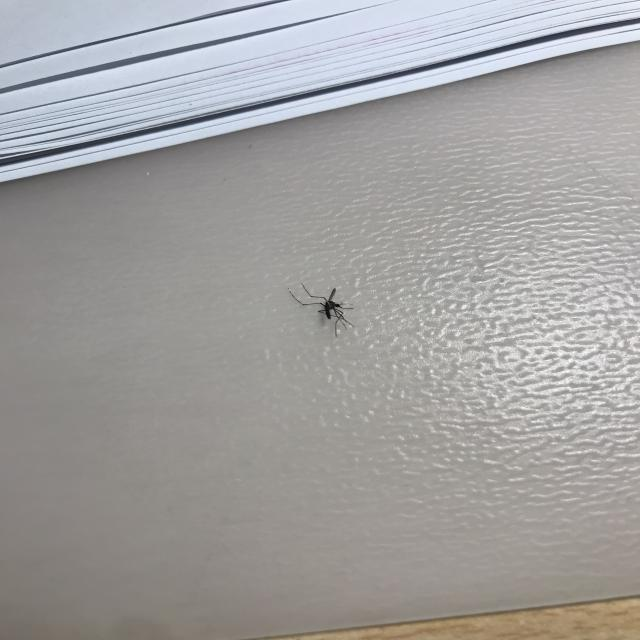albopictus: (286, 280, 361, 337)
